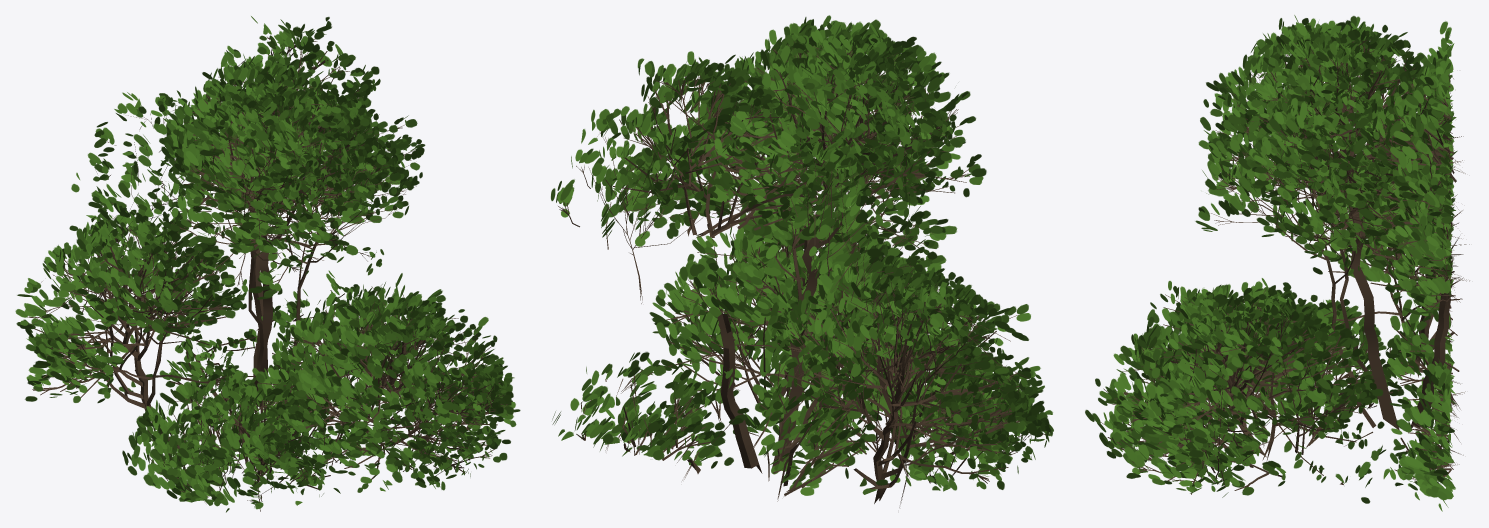
3 views of the same model, side by side, from view 1: azimuth 30°, elevation 25°; view 2: azimuth 150°, elevation 25°; view 3: azimuth 270°, elevation 25° (orthographic). The views are drawn at different scales.
Visible parts, largest first — view 1: oak 01.001_trunk_Mat.001_0.383; view 2: oak 01.001_trunk_Mat.001_0.383; view 3: oak 01.001_trunk_Mat.001_0.383.
Part boxes in pixels (x1,y1,x2,y2): oak 01.001_trunk_Mat.001_0.383: (15,16,520,512); oak 01.001_trunk_Mat.001_0.383: (551,15,1053,507); oak 01.001_trunk_Mat.001_0.383: (1085,15,1469,511).
Bounding box in the file's own units: 4.38 × 3.93 × 3.34.
Materials: 2 (1 with a texture image).
